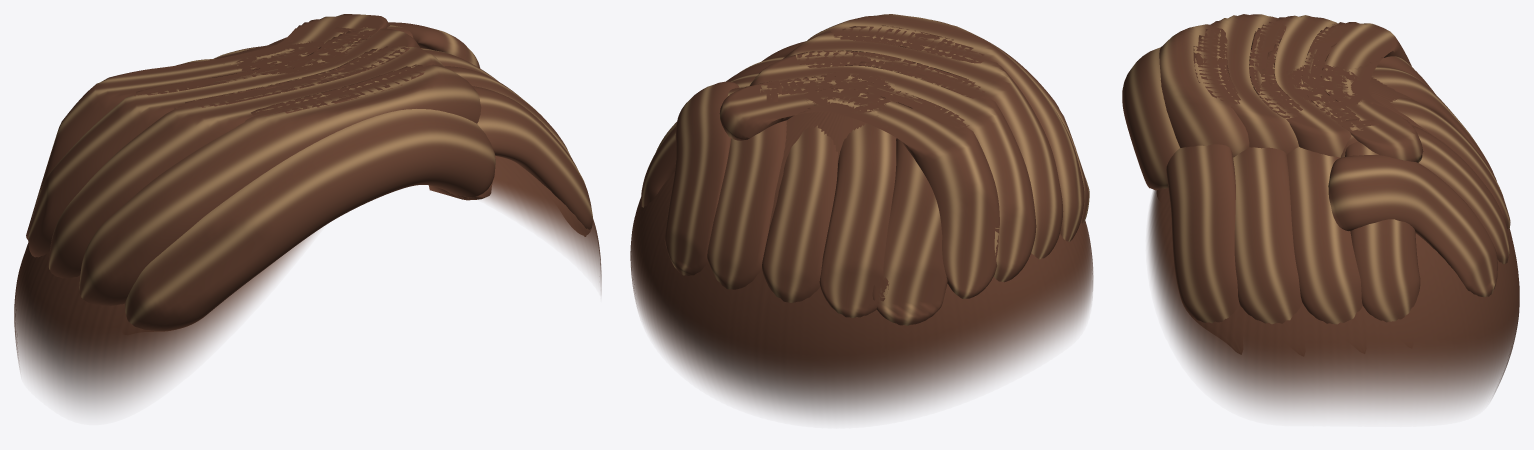
File: Highlights-c2a5ef5d558c252-hair.glb
3 views of the same model, side by side, from view 1: azimuth 30°, elevation 25°; view 2: azimuth 150°, elevation 25°; view 3: azimuth 270°, elevation 25° (orthographic). The views are drawn at different scales.
Parts seen in each view (by area): view 1: 226 hair / Hair252 / sculpted locks.001, 226 hair / Hair252 / gentle tonal variation.001, 226 hair / Hair252 / restored153 fade coverage.001; view 2: 226 hair / Hair252 / sculpted locks.001, 226 hair / Hair252 / restored153 fade coverage.001, 226 hair / Hair252 / gentle tonal variation.001; view 3: 226 hair / Hair252 / sculpted locks.001, 226 hair / Hair252 / restored153 fade coverage.001, 226 hair / Hair252 / gentle tonal variation.001.
Boxes of the visible parts, x1,y1,x2,y2 form: 226 hair / Hair252 / sculpted locks.001: (26,14,572,305); 226 hair / Hair252 / gentle tonal variation.001: (125,59,592,330); 226 hair / Hair252 / restored153 fade coverage.001: (14,41,601,410); 226 hair / Hair252 / sculpted locks.001: (641,14,1084,325); 226 hair / Hair252 / restored153 fade coverage.001: (630,70,1093,418); 226 hair / Hair252 / gentle tonal variation.001: (762,19,1089,318); 226 hair / Hair252 / sculpted locks.001: (1159,14,1510,324); 226 hair / Hair252 / restored153 fade coverage.001: (1148,64,1519,413); 226 hair / Hair252 / gentle tonal variation.001: (1122,47,1496,323).
Bounding box in the file's own units: 0.976 × 0.6782 × 0.7562.
3 materials, 3 textured.
